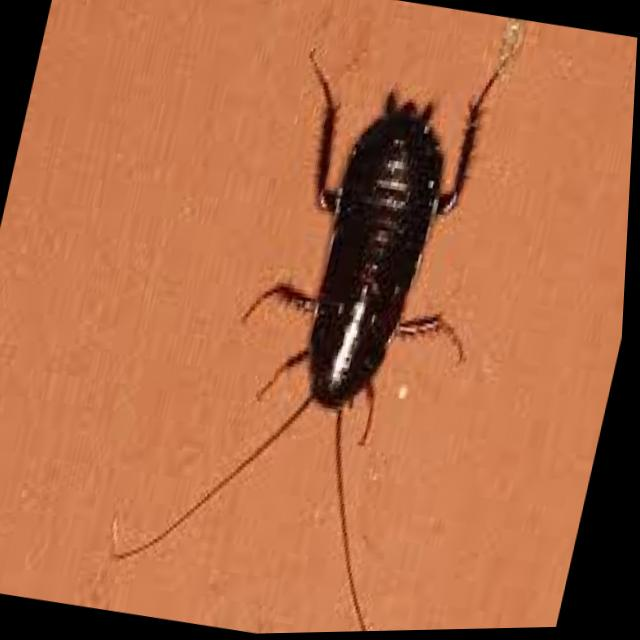Cockroach: (97, 6, 562, 638)
